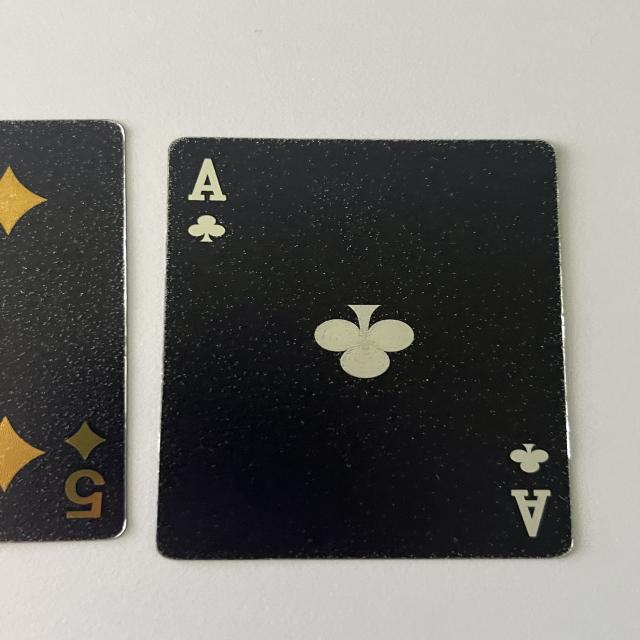5D: (54, 420, 120, 531)
QC: (496, 434, 565, 542), (177, 153, 238, 249)
